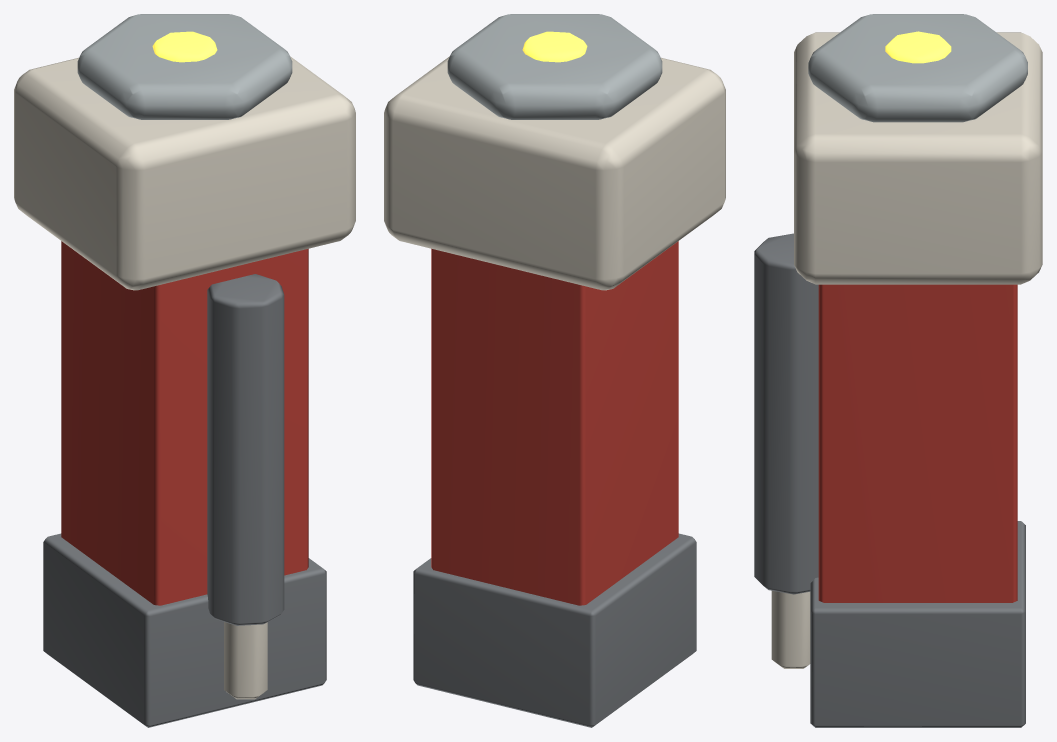
File: everykit_standard_piston.glb
The picture shows the model from 3 angles, left to right: view 1: azimuth 30°, elevation 25°; view 2: azimuth 150°, elevation 25°; view 3: azimuth 270°, elevation 25°; orthographic projection. The views are drawn at different scales.
Visible parts, largest first — view 1: everykit_standard_piston; view 2: everykit_standard_piston; view 3: everykit_standard_piston.
Boxes of the visible parts, x1=… form: everykit_standard_piston: x1=14, y1=14, x2=355, y2=727; everykit_standard_piston: x1=384, y1=14, x2=725, y2=727; everykit_standard_piston: x1=754, y1=14, x2=1042, y2=727.
Bounding box in the file's own units: 0.34 × 0.8525 × 0.3477.
Materials: 1 (1 with a texture image).
